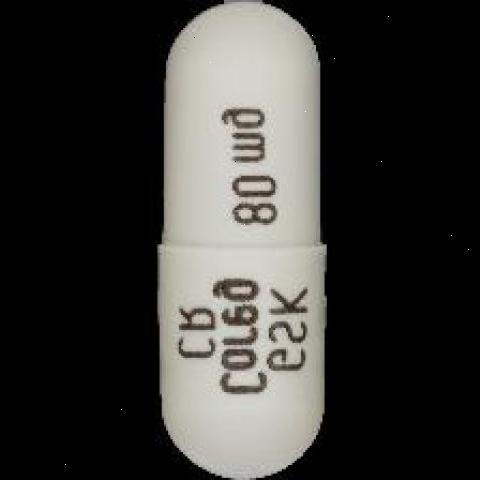Pill: (114, 0, 370, 479)
